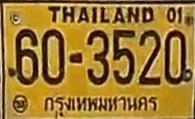0: (164, 28, 188, 84), (41, 28, 64, 84)
2: (138, 29, 160, 84)
3: (86, 29, 108, 84)
5: (112, 28, 135, 84)
6: (14, 28, 38, 84)
BKK: (41, 92, 160, 116)
